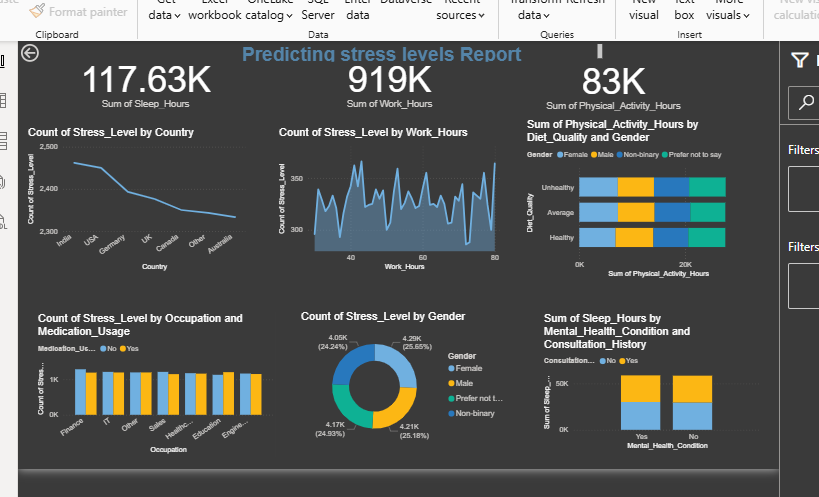

Layout of this report page (visuals, bound fields, positions):
{"tool":"powerbi","page":{"name":"report","canvas":[1280,720],"ordinal":0},"visuals":[{"type":"actionButton","box":[0,0,100,40],"z":0},{"type":"card","fields":{"Values":["Sum(mental_health_data final data.Work_Hours)"]},"box":[527.5,11.8,193.2,114.2],"z":1000},{"type":"card","fields":{"Values":["Sum(mental_health_data final data.Physical_Activity_Hours)"]},"box":[851.7,20.2,300.7,102.5],"z":2000},{"type":"lineChart","fields":{"Y":["CountNonNull(mental_health_data final data.Stress_Level)"],"Category":["mental_health_data final data.Country"]},"box":[11.8,142.8,376.3,248.6],"z":3000},{"type":"clusteredColumnChart","fields":{"Category":["mental_health_data final data.Occupation"],"Y":["CountNonNull(mental_health_data final data.Stress_Level)"],"Series":["mental_health_data final data.Medication_Usage"]},"box":[28.6,455.8,405.4,243.9],"z":4000},{"type":"donutChart","fields":{"Category":["mental_health_data final data.Gender","mental_health_data final data.Stress_Level"],"Y":["CountNonNull(mental_health_data final data.Stress_Level)"]},"box":[471,452.5,363.3,235.5],"z":5000},{"type":"areaChart","fields":{"Y":["CountNonNull(mental_health_data final data.Stress_Level)"],"Category":["mental_health_data final data.Work_Hours"]},"box":[433.4,142.8,383,248.6],"z":6000},{"type":"barChart","fields":{"Category":["mental_health_data final data.Diet_Quality"],"Series":["mental_health_data final data.Gender"],"Y":["Sum(mental_health_data final data.Physical_Activity_Hours)"]},"box":[851.7,129.3,376.3,273.8],"z":7000},{"type":"lineStackedColumnComboChart","fields":{"Category":["mental_health_data final data.Mental_Health_Condition"],"Y":["Sum(mental_health_data final data.Sleep_Hours)"],"Series":["mental_health_data final data.Consultation_History"]},"box":[879.7,455.8,375.1,237.2],"z":8000},{"type":"textbox","box":[371.7,0,615.6,40.4],"z":9000},{"type":"card","fields":{"Values":["Sum(mental_health_data final data.Sleep_Hours)"]},"box":[70.6,20.2,287.6,97.6],"z":10000}]}

Visuals, with their boxes on the page's 1280x720 design canvas (x1, y1, x2, y2). These are canvas units, not pixel positions in the 819x497 screenshot, which may show the page scaled, cropped or inside an application window:
actionButton: pyautogui.locateOnScreen(0, 0, 100, 40)
card - Sum(mental_health_data final data.Work_Hours): pyautogui.locateOnScreen(528, 12, 721, 126)
card - Sum(mental_health_data final data.Physical_Activity_Hours): pyautogui.locateOnScreen(852, 20, 1152, 123)
lineChart - CountNonNull(mental_health_data final data.Stress_Level) x mental_health_data final data.Country: pyautogui.locateOnScreen(12, 143, 388, 391)
clusteredColumnChart - mental_health_data final data.Occupation x CountNonNull(mental_health_data final data.Stress_Level): pyautogui.locateOnScreen(29, 456, 434, 700)
donutChart - mental_health_data final data.Gender x mental_health_data final data.Stress_Level: pyautogui.locateOnScreen(471, 452, 834, 688)
areaChart - CountNonNull(mental_health_data final data.Stress_Level) x mental_health_data final data.Work_Hours: pyautogui.locateOnScreen(433, 143, 816, 391)
barChart - mental_health_data final data.Diet_Quality x mental_health_data final data.Gender: pyautogui.locateOnScreen(852, 129, 1228, 403)
lineStackedColumnComboChart - mental_health_data final data.Mental_Health_Condition x Sum(mental_health_data final data.Sleep_Hours): pyautogui.locateOnScreen(880, 456, 1255, 693)
textbox: pyautogui.locateOnScreen(372, 0, 987, 40)
card - Sum(mental_health_data final data.Sleep_Hours): pyautogui.locateOnScreen(71, 20, 358, 118)
